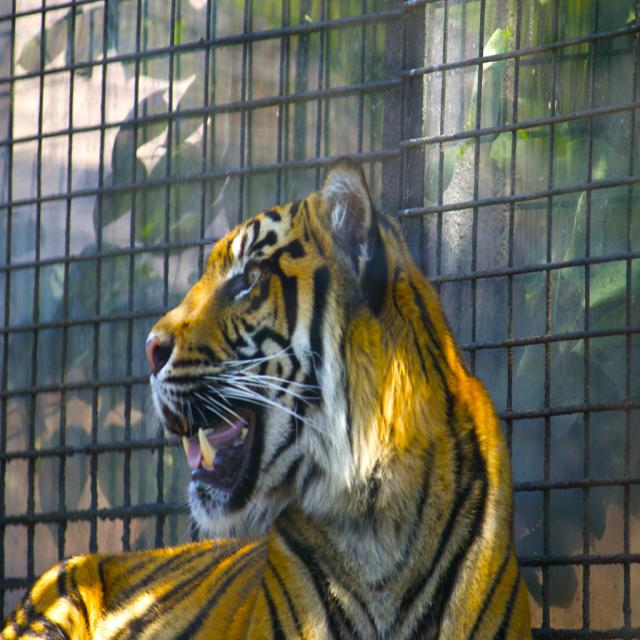Tiger: (0, 152, 530, 639)
